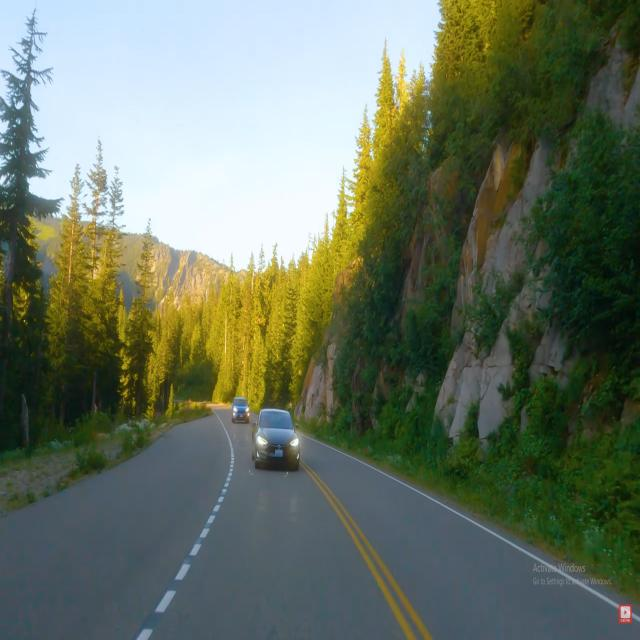headlights: (253, 425, 304, 462), (231, 402, 251, 423)
